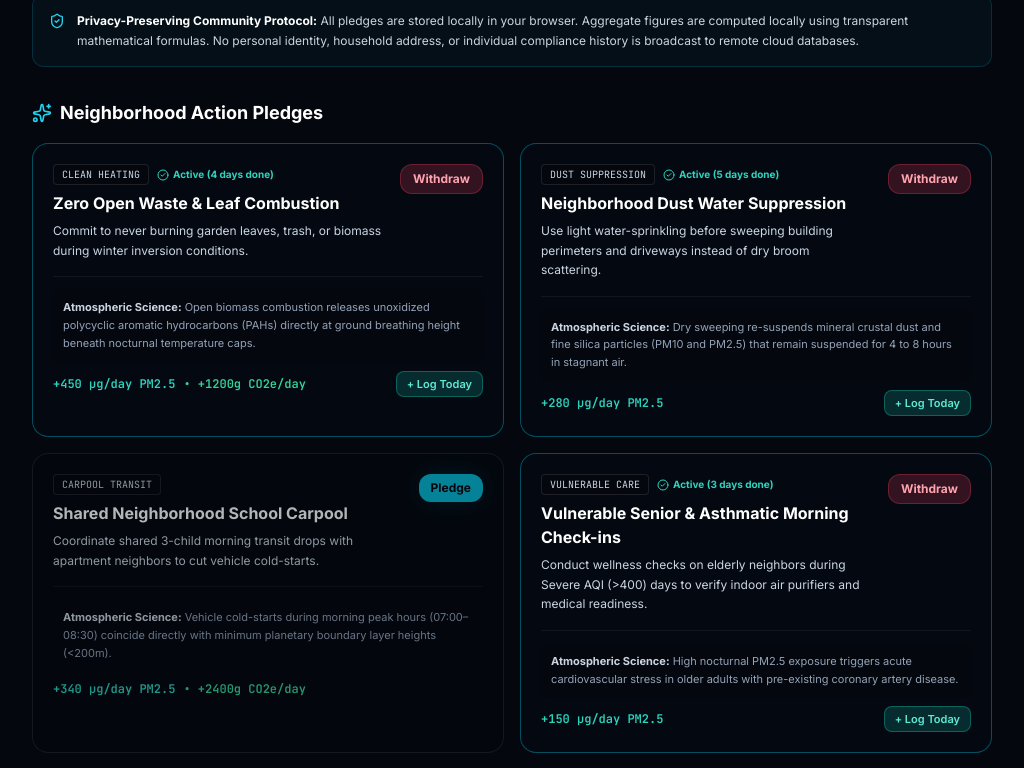
Interactive JSDOM Workbench Verification › CommunityHub toggles pledges and logs completion days locally
Click the button "+ Log Today" in the row of "1200": (439, 384) [396,371,483,397]
(page scrolled)
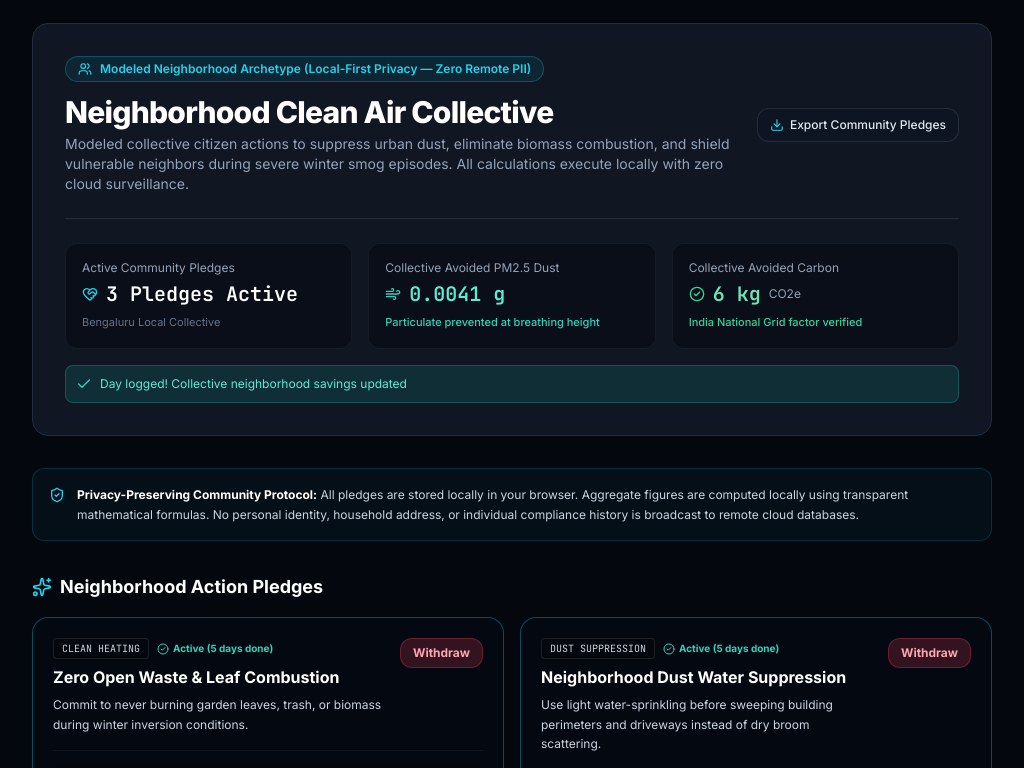
Expected: the text "Day logged! Collective neighborhood savings updated" is shown, [100,376,407,392]
